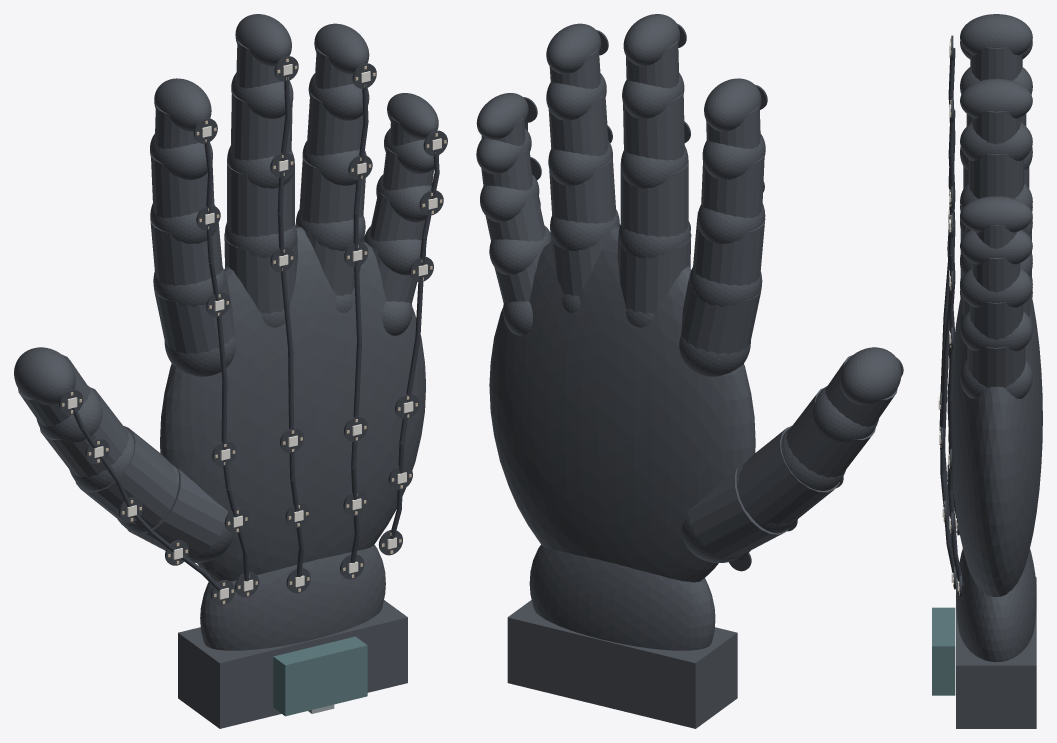
Rendered from warlock_v3_reference.glb.
3 views of the same model, side by side, from view 1: azimuth 30°, elevation 25°; view 2: azimuth 150°, elevation 25°; view 3: azimuth 270°, elevation 25° (orthographic). The views are drawn at different scales.
Parts seen in each view (by area): view 1: FABRIC_PALM, FABRIC_WRIST, FABRIC_CUFF, XIAO_CONTROLLER, FABRIC_Thumb_1, FABRIC_Thumb_0, FABRIC_Middle_1, FABRIC_Index_0, FABRIC_Index_1, FABRIC_Middle_0, FABRIC_Ring_1, JOINT_Thumb_4 (+32 smaller); view 2: FABRIC_PALM, FABRIC_CUFF, FABRIC_WRIST, FABRIC_Thumb_1, FABRIC_Thumb_0, FABRIC_Middle_1, FABRIC_Index_0, FABRIC_Middle_0, FABRIC_Index_1, FABRIC_Middle_2, FABRIC_Thumb_2, FABRIC_Ring_1 (+32 smaller); view 3: FABRIC_PALM, FABRIC_CUFF, FABRIC_WRIST, JOINT_Middle_4, JOINT_Ring_4, FABRIC_Ring_2, XIAO_CONTROLLER, JOINT_Pinky_4, FABRIC_Pinky_0, JOINT_Pinky_2, JOINT_Ring_3, JOINT_Pinky_3 (+22 smaller).
Boxes of the visible parts, bbox=[...] form: FABRIC_PALM: bbox=[160, 226, 425, 581]; FABRIC_WRIST: bbox=[200, 545, 385, 650]; FABRIC_CUFF: bbox=[178, 600, 407, 728]; XIAO_CONTROLLER: bbox=[273, 636, 367, 716]; FABRIC_Thumb_1: bbox=[75, 426, 178, 525]; FABRIC_Thumb_0: bbox=[127, 468, 227, 558]; FABRIC_Middle_1: bbox=[227, 161, 294, 236]; FABRIC_Index_0: bbox=[154, 272, 234, 354]; FABRIC_Index_1: bbox=[150, 218, 222, 285]; FABRIC_Middle_0: bbox=[224, 233, 297, 314]; FABRIC_Ring_1: bbox=[299, 157, 365, 223]; JOINT_Thumb_4: bbox=[14, 347, 75, 405]; FABRIC_PALM: bbox=[489, 226, 755, 582]; FABRIC_CUFF: bbox=[507, 600, 737, 728]; FABRIC_WRIST: bbox=[529, 545, 715, 650]; FABRIC_Thumb_1: bbox=[737, 426, 839, 525]; FABRIC_Thumb_0: bbox=[687, 469, 788, 558]; FABRIC_Middle_1: bbox=[620, 161, 688, 237]; FABRIC_Index_0: bbox=[681, 272, 761, 354]; FABRIC_Middle_0: bbox=[617, 233, 691, 314]; FABRIC_Index_1: bbox=[692, 212, 765, 285]; FABRIC_Middle_2: bbox=[623, 92, 684, 160]; FABRIC_Thumb_2: bbox=[786, 387, 875, 477]; FABRIC_Ring_1: bbox=[549, 157, 615, 223]; FABRIC_PALM: bbox=[953, 295, 1042, 596]; FABRIC_CUFF: bbox=[956, 577, 1036, 728]; FABRIC_WRIST: bbox=[956, 548, 1036, 661]; JOINT_Middle_4: bbox=[960, 14, 1032, 55]; JOINT_Ring_4: bbox=[960, 78, 1032, 118]; FABRIC_Ring_2: bbox=[968, 154, 1024, 198]; XIAO_CONTROLLER: bbox=[932, 607, 955, 695]; JOINT_Pinky_4: bbox=[960, 196, 1032, 232]; FABRIC_Pinky_0: bbox=[967, 346, 1025, 387]; JOINT_Pinky_2: bbox=[960, 268, 1032, 307]; JOINT_Ring_3: bbox=[960, 122, 1032, 160]; JOINT_Pinky_3: bbox=[960, 230, 1032, 264].
Size of the model in its own units: 2.96 by 4.66 by 0.715.
